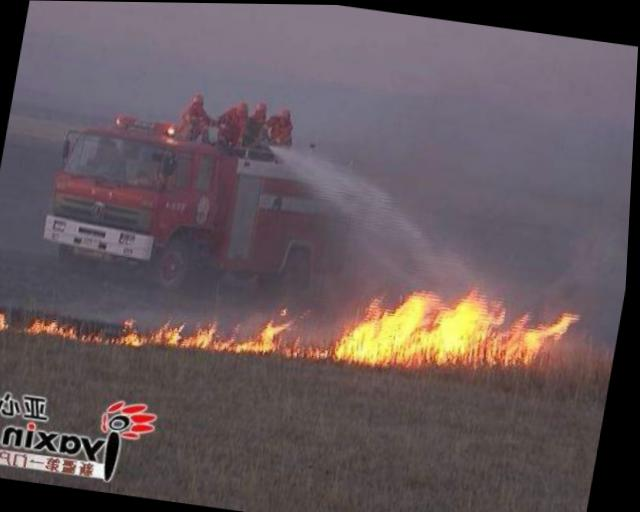fire: (0, 225, 583, 408)
